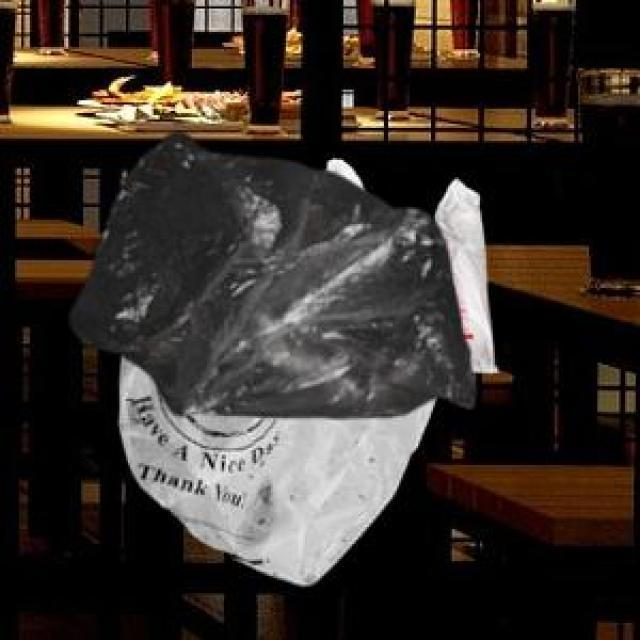waste: (71, 138, 474, 417), (119, 358, 435, 584), (440, 182, 489, 366)
